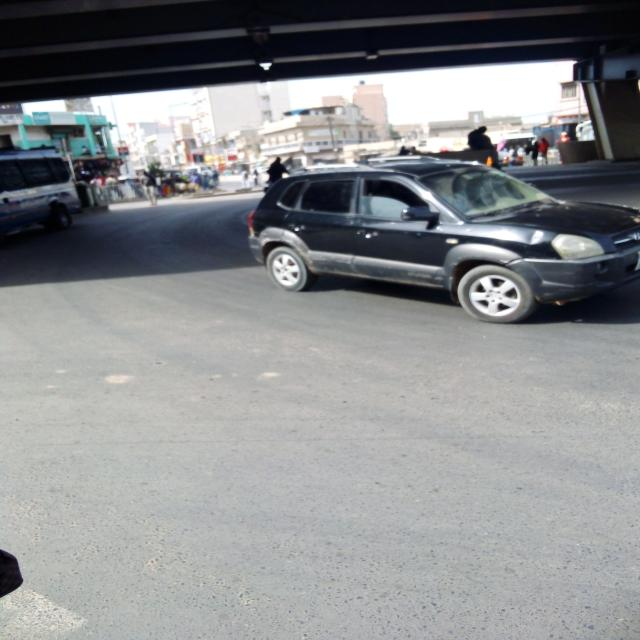particulier: (249, 160, 640, 324), (1, 151, 83, 236)
